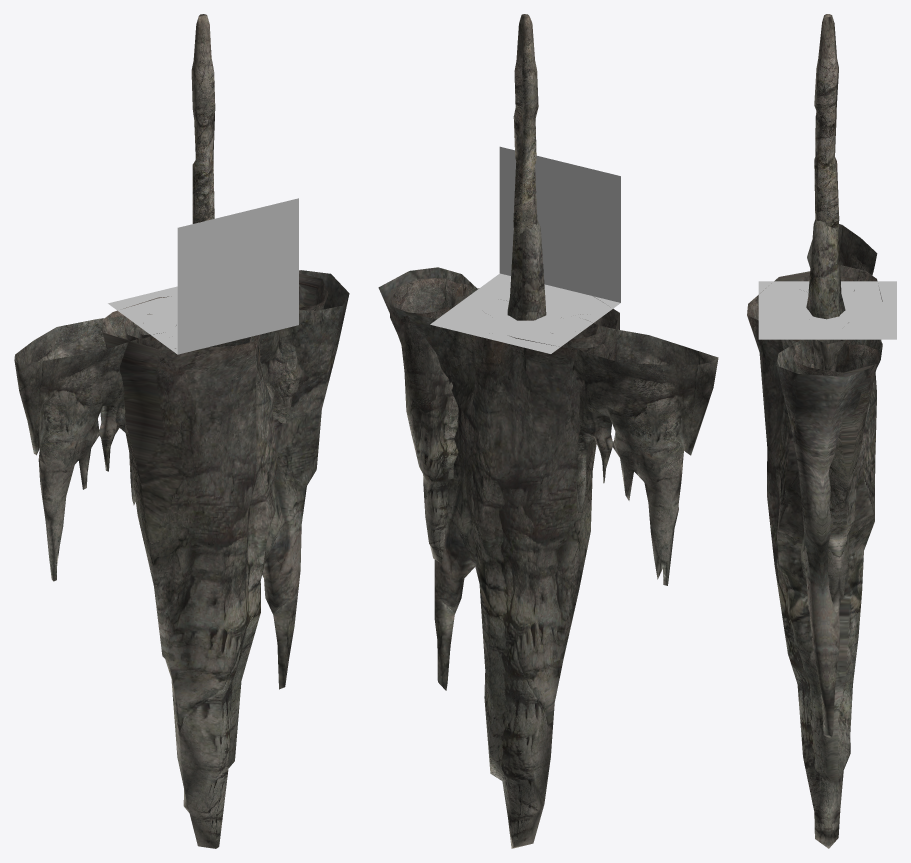
File: stag_stal.obj
3 renders of one model, left to right at view 1: azimuth 30°, elevation 25°; view 2: azimuth 150°, elevation 25°; view 3: azimuth 270°, elevation 25°, orthographic.
Parts seen in each view (by area): view 1: tdr_h_stal_d, tdr_h_stal_c, Default_TRLE_Wall_Cube.004, Default_TRLE_Floor_Cube.003, tdr_h_stag_e, tdr_h_stag_d; view 2: tdr_h_stal_d, tdr_h_stal_c, Default_TRLE_Wall_Cube.004, Default_TRLE_Floor_Cube.003, tdr_h_stag_d, tdr_h_stag_b, tdr_h_stag_e, tdr_h_stag_c; view 3: tdr_h_stal_d, tdr_h_stal_c, Default_TRLE_Floor_Cube.003, tdr_h_stag_d, tdr_h_stag_b, tdr_h_stag_e, tdr_h_stal_b, tdr_h_stal_a.
Part boxes in pixels (<box>): tdr_h_stal_d: <box>102,270,349,848</box>; tdr_h_stal_c: <box>14,273,328,581</box>; Default_TRLE_Wall_Cube.004: <box>177,198,298,354</box>; Default_TRLE_Floor_Cube.003: <box>108,286,177,354</box>; tdr_h_stag_e: <box>192,14,214,222</box>; tdr_h_stag_d: <box>191,14,215,223</box>; tdr_h_stal_d: <box>378,267,619,848</box>; tdr_h_stal_c: <box>390,278,718,585</box>; Default_TRLE_Wall_Cube.004: <box>499,146,620,302</box>; Default_TRLE_Floor_Cube.003: <box>430,273,620,353</box>; tdr_h_stag_d: <box>513,14,537,248</box>; tdr_h_stag_b: <box>507,220,546,320</box>; tdr_h_stag_e: <box>513,14,538,167</box>; tdr_h_stag_c: <box>510,224,546,320</box>; tdr_h_stal_d: <box>747,265,882,848</box>; tdr_h_stal_c: <box>781,224,880,612</box>; Default_TRLE_Floor_Cube.003: <box>758,281,896,339</box>; tdr_h_stag_d: <box>814,14,839,245</box>; tdr_h_stag_b: <box>806,219,841,319</box>; tdr_h_stag_e: <box>814,14,834,212</box>; tdr_h_stal_b: <box>798,276,854,371</box>; tdr_h_stal_a: <box>812,322,848,369</box>.
Size of the model in its own units: 27.52 by 67.53 by 11.1.
